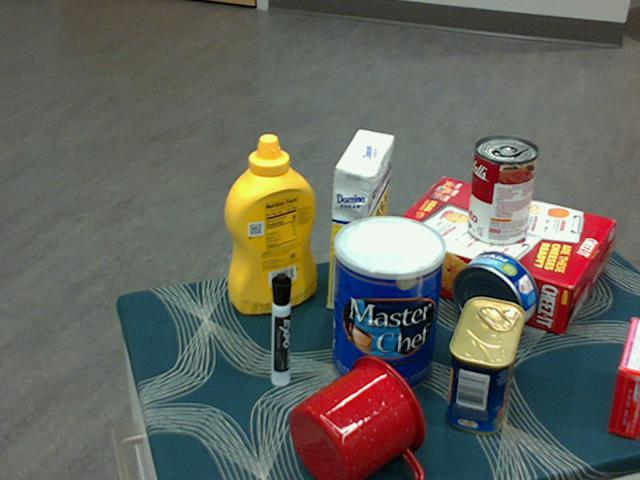cracker_box: (382, 179, 612, 331)
gelatin_box: (606, 318, 639, 439)
large_marker: (268, 272, 290, 388)
master_chef_can: (332, 215, 447, 397)
mug: (289, 355, 427, 479)
mustard_bottle: (223, 134, 316, 314)
potted_meat_can: (446, 297, 525, 435)
sugar_box: (325, 130, 394, 317)
tomato_soup_can: (467, 137, 538, 247)
tuna_fish_can: (453, 250, 539, 336)
